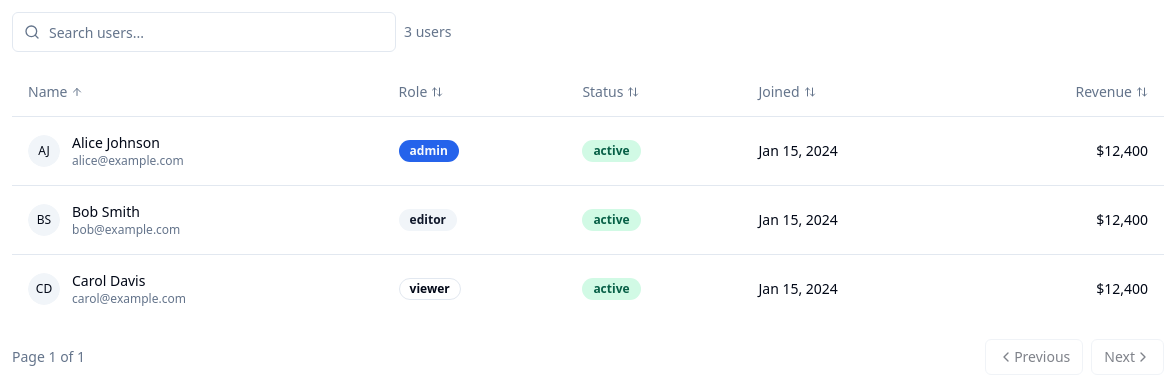
Test: DataTable › shows an empty state when nothing matches
In the field with placeholder "Search users...": (204, 32) [12, 12, 396, 52], type "zzz"
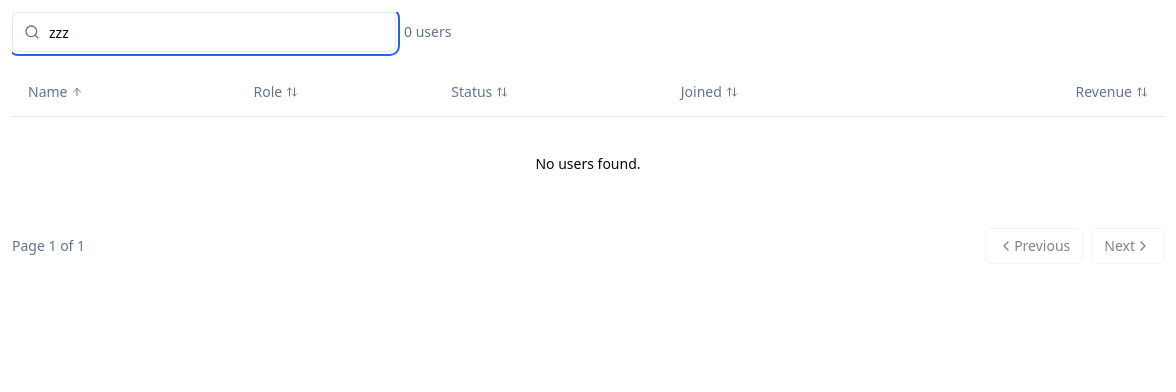
Expected: the text "No users found." is shown, [12, 116, 1164, 212]
